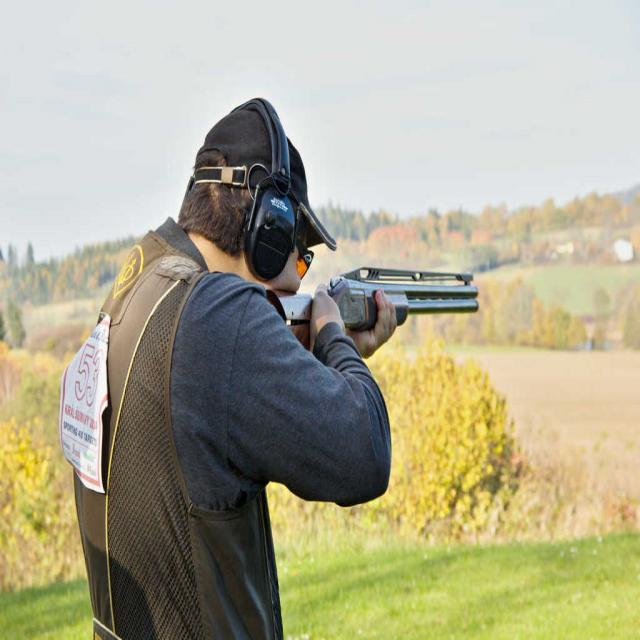weapon: (266, 266, 480, 351)
